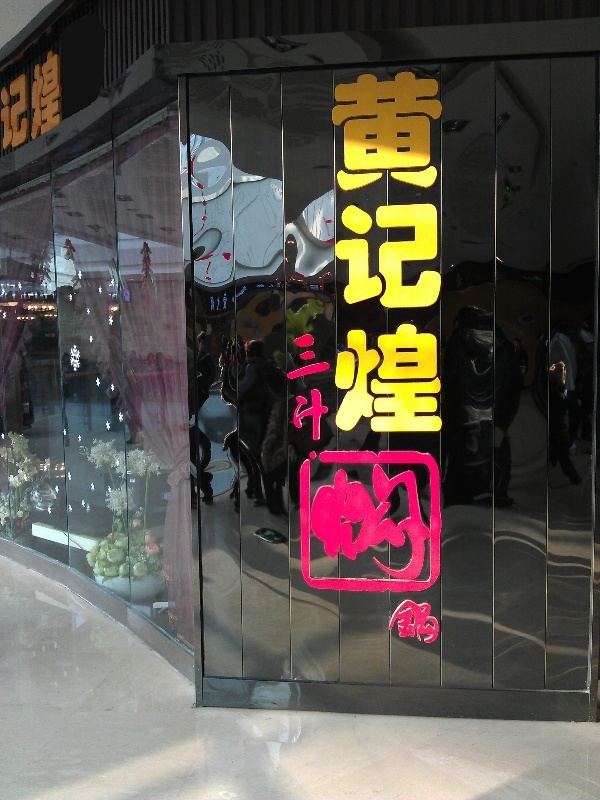text: (337, 69, 352, 439), (353, 69, 368, 439), (369, 69, 384, 439), (385, 69, 400, 439), (401, 69, 416, 439), (417, 69, 432, 439), (433, 69, 444, 439), (321, 465, 336, 581), (337, 465, 352, 581), (353, 465, 368, 581), (369, 465, 384, 581), (385, 465, 400, 581), (401, 465, 416, 581), (1, 47, 16, 159), (17, 47, 32, 159), (33, 47, 48, 159), (417, 465, 431, 581), (289, 335, 304, 442), (305, 335, 320, 442), (49, 47, 62, 159), (333, 69, 336, 439), (311, 465, 320, 581), (321, 335, 330, 442), (401, 599, 416, 643), (417, 599, 432, 643), (389, 599, 400, 643), (433, 599, 442, 643), (287, 335, 288, 442)
